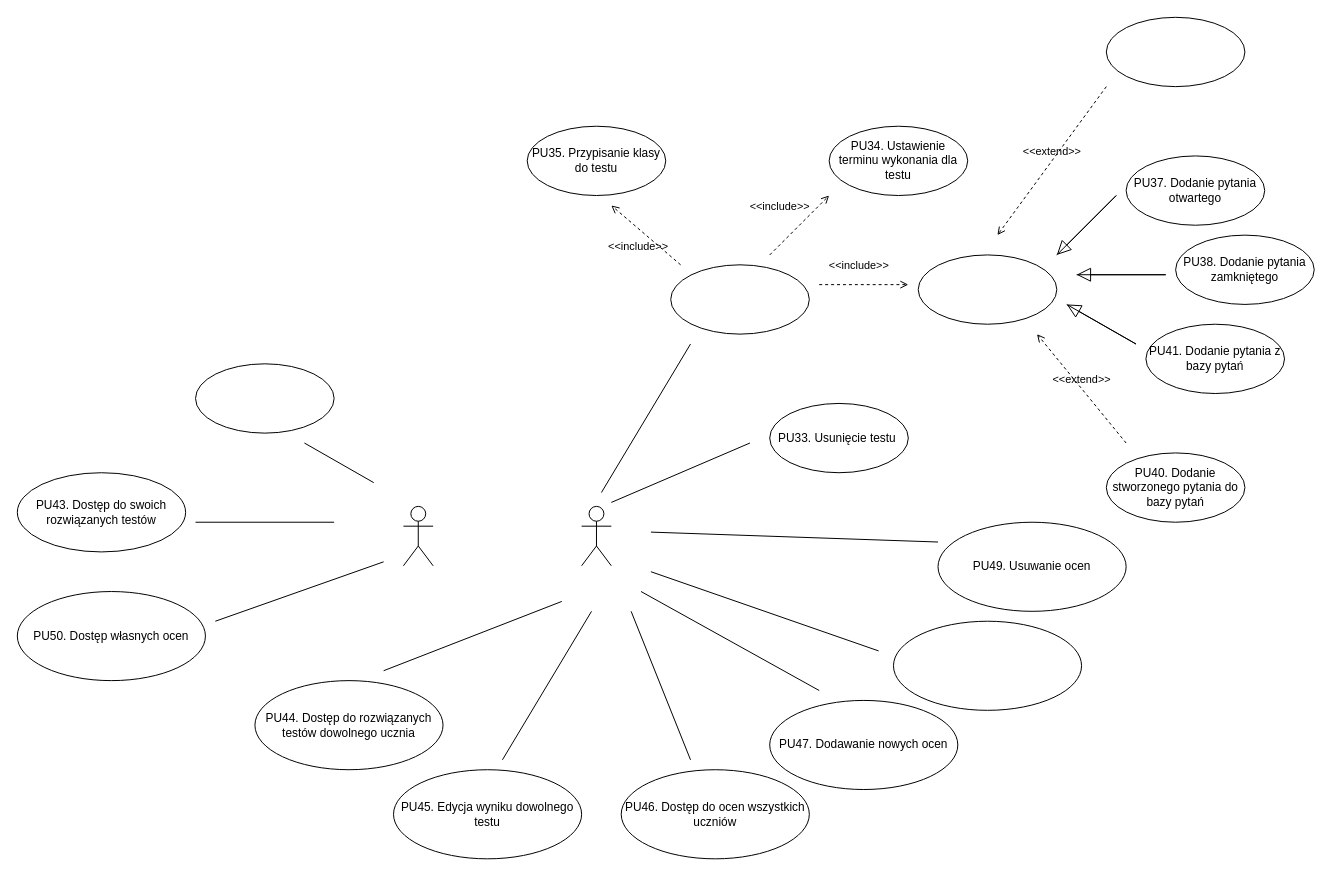
The diagram is 1332 pixels wide and 876 high, and some of its shapes have lost their labels. Here are the shapes that lost their labels. From the top down, the centre of each, then its label:
At point (1175, 51): "PU39. Dodanie załącznika w postaci pliku mp3 do pytania".
At point (739, 299): "PU32. Stworzenie testu".
At point (987, 289): "PU36. Dodanie pytania do testu".
At point (264, 398): "PU42. Rozwiązanie testu".
At point (417, 535): "Uczeń".
At point (596, 535): "Nauczyciel".
At point (987, 665): "PU48. Edycja ocen".
